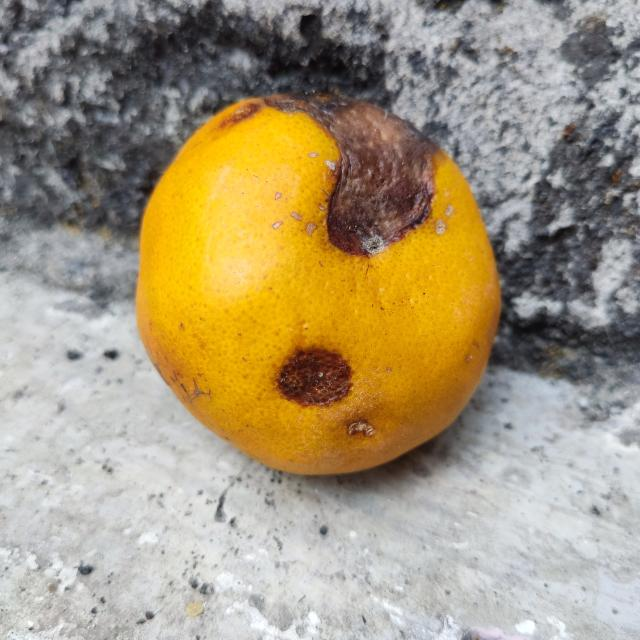orange: (130, 93, 498, 478)
